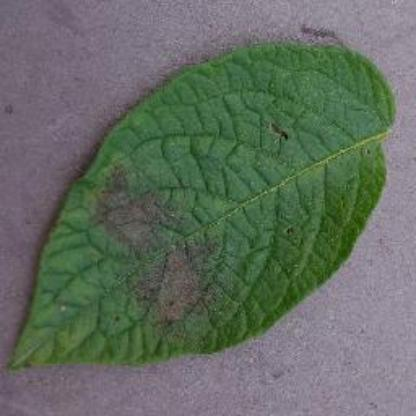Late-Blight: (14, 6, 402, 404)
